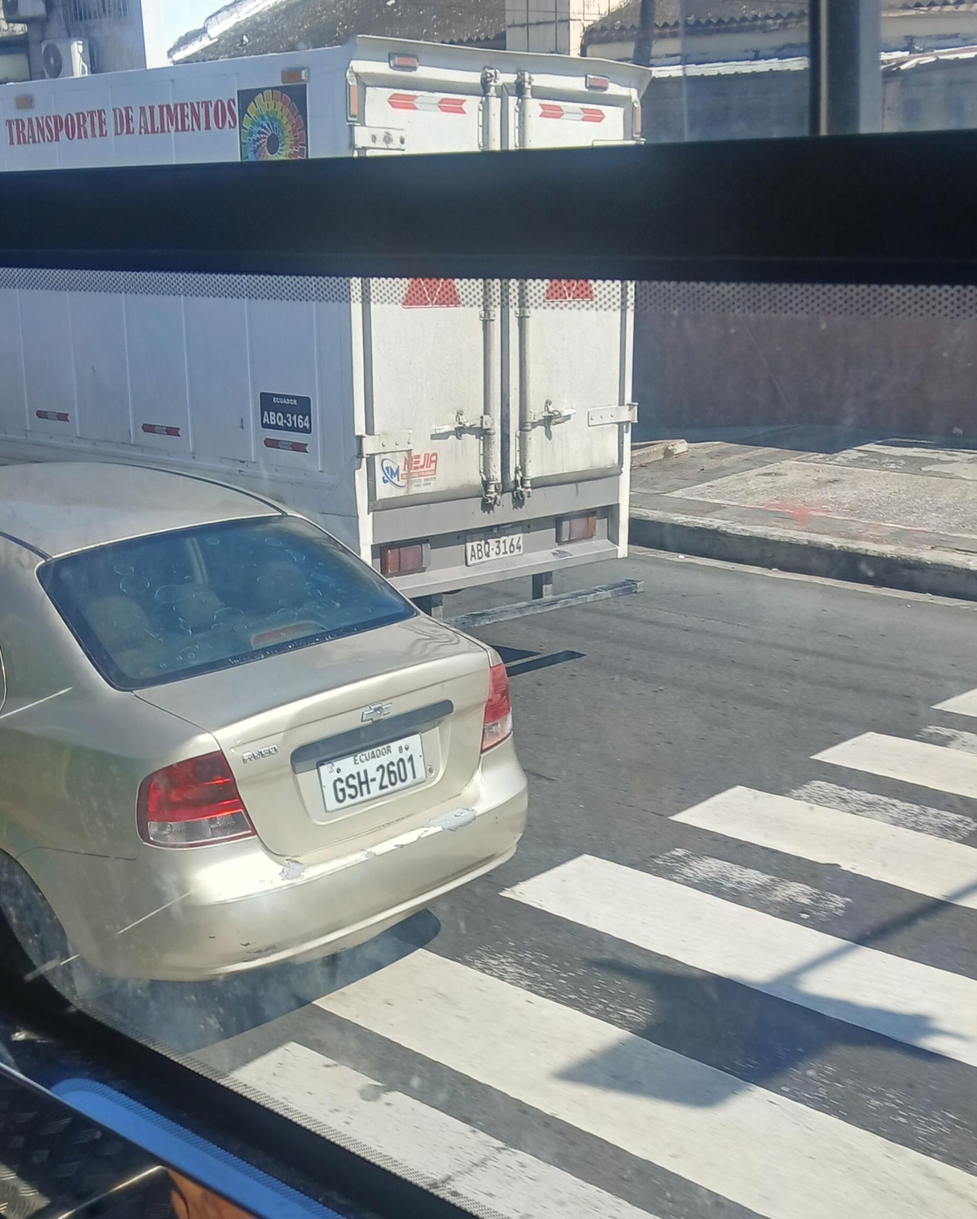license_plate: (317, 734, 427, 813), (465, 532, 524, 567)
